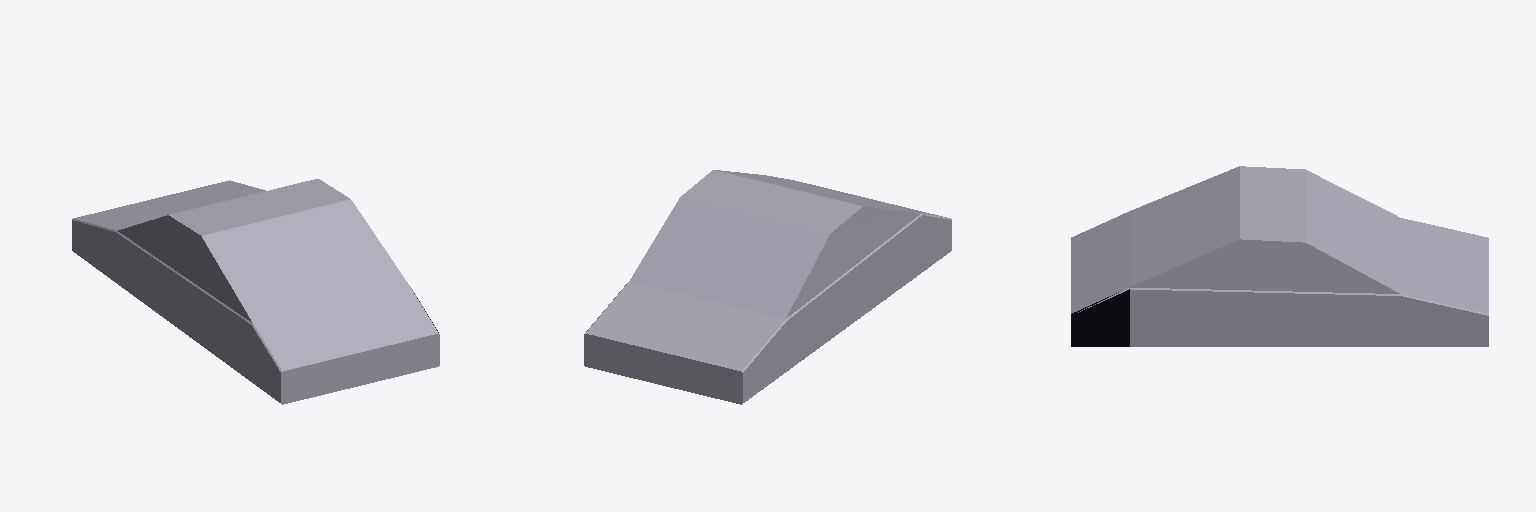
File: vehicle_cyber_pickup_simple.obj
3 renders of one model, left to right at view 1: azimuth 30°, elevation 25°; view 2: azimuth 150°, elevation 25°; view 3: azimuth 270°, elevation 25°, orthographic.
Size of the model in its own units: 2.5 by 1.6 by 5.7.